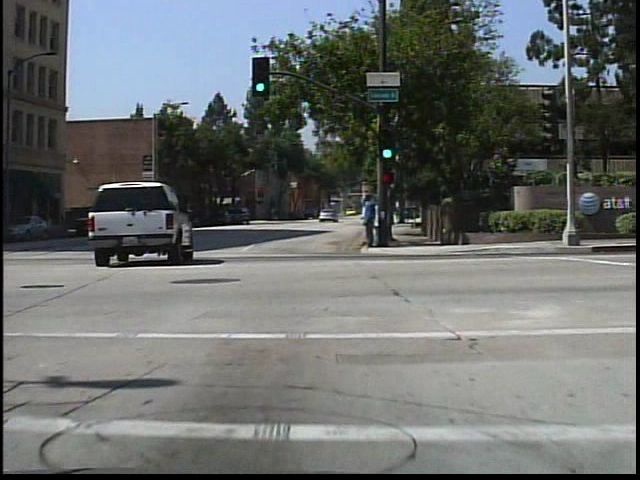person: (356, 194, 377, 250), (365, 196, 383, 249)
